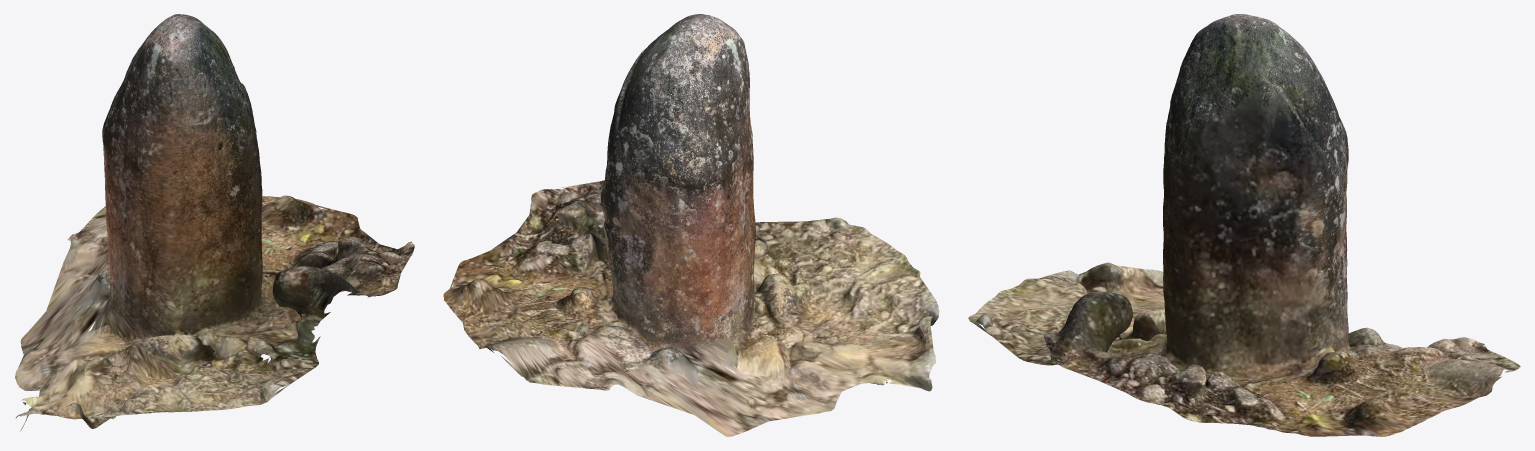
The model's file is paseuk.glb.
3 views of the same model, side by side, from view 1: azimuth 30°, elevation 25°; view 2: azimuth 150°, elevation 25°; view 3: azimuth 270°, elevation 25° (orthographic). The views are drawn at different scales.
Visible parts, largest first — view 1: mesh; view 2: mesh; view 3: mesh.
Part boxes in pixels (x1=…): mesh: x1=15, y1=14, x2=414, y2=432; mesh: x1=443, y1=14, x2=939, y2=436; mesh: x1=968, y1=14, x2=1520, y2=436.
Size of the model in its own units: 3.18 by 2.59 by 3.29.
Materials: 1 (1 with a texture image).
